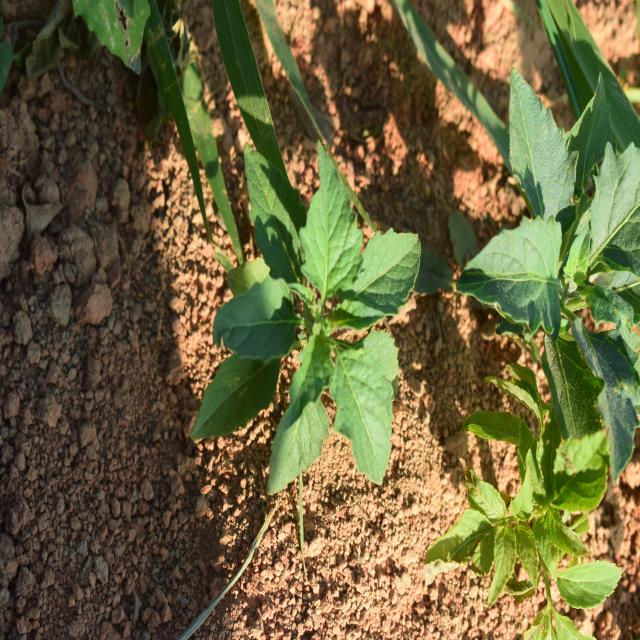Black_nightshade: (208, 177, 413, 493), (462, 100, 637, 462)
